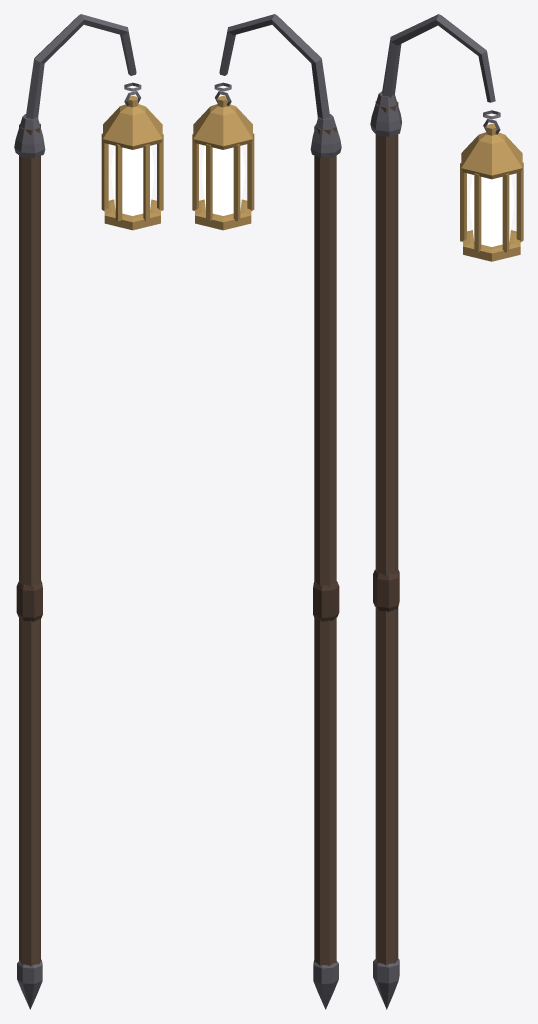
The model's file is lantern_staff.glb.
3 views of the same model, side by side, from view 1: azimuth 30°, elevation 25°; view 2: azimuth 150°, elevation 25°; view 3: azimuth 330°, elevation 25° (orthographic). The views are drawn at different scales.
Parts seen in each view (by area): view 1: lantern_staff; view 2: lantern_staff; view 3: lantern_staff.
Part boxes in pixels (left/top/right/bottom): lantern_staff: left=14, top=14, right=163, bottom=1009; lantern_staff: left=192, top=14, right=341, bottom=1009; lantern_staff: left=370, top=14, right=523, bottom=1009.
Bounding box in the file's own units: 0.3394 × 2.2 × 0.122.
